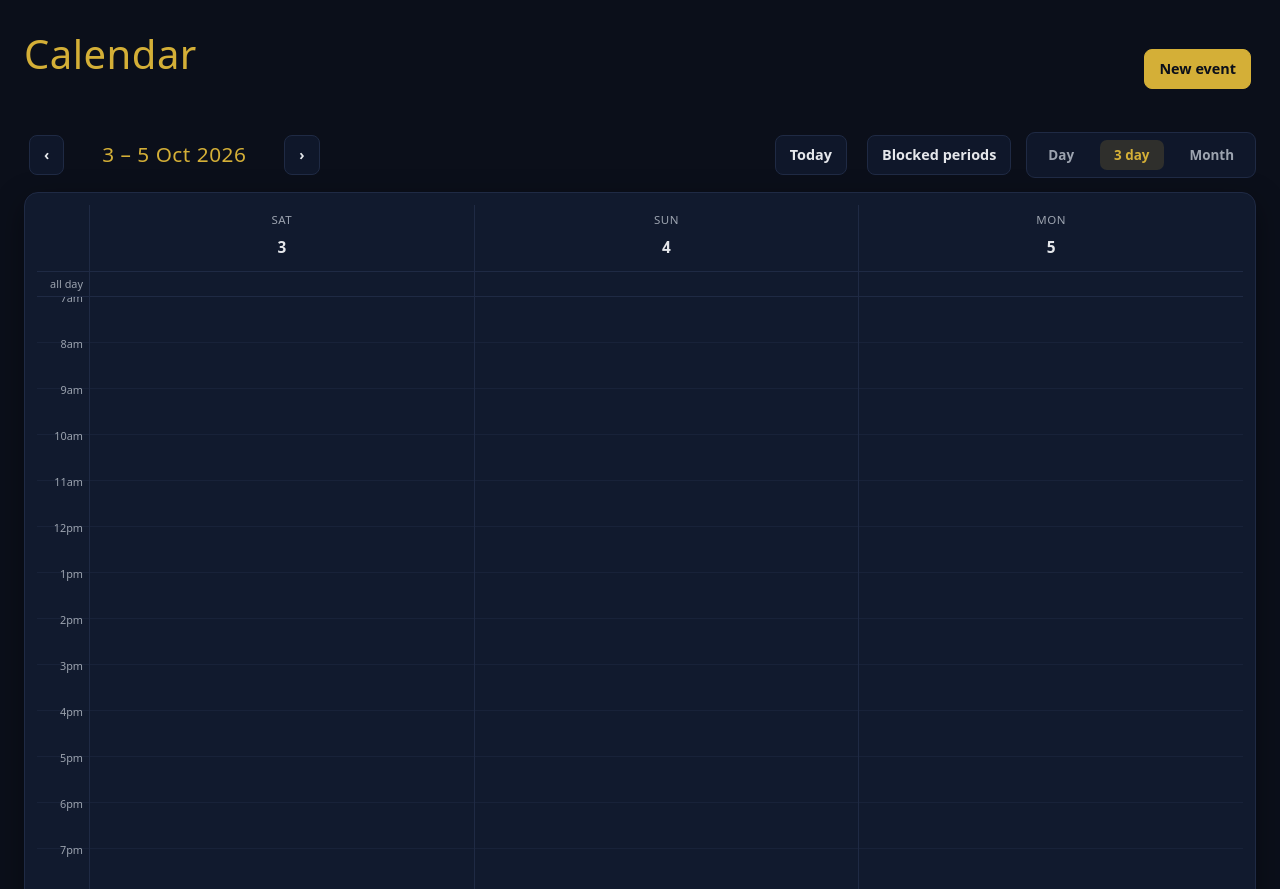
Test: on a phone › moves three days a press, and names it so
(page scrolled)
Click the button named "Next 3 days": click(302, 155) 284,135 -> 320,175
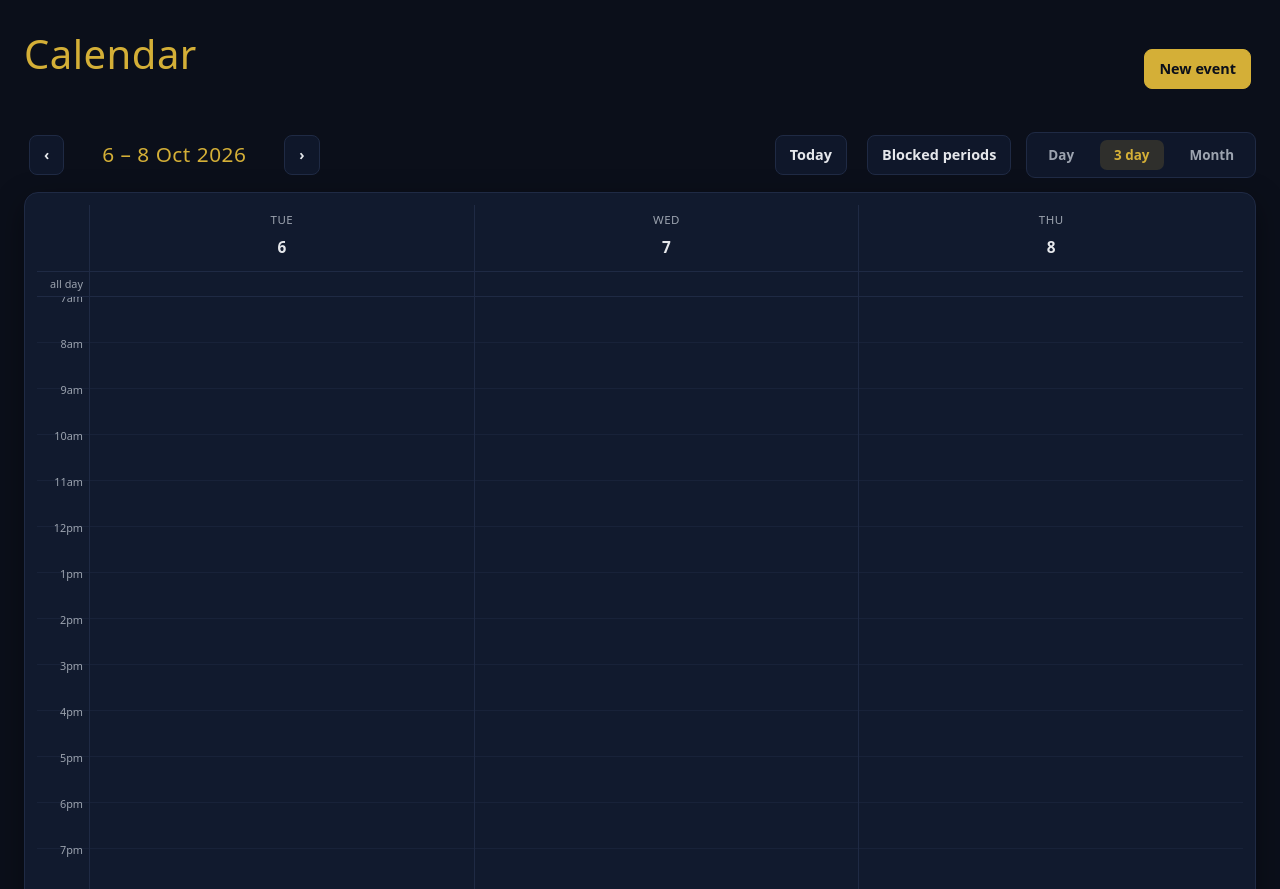
expect the heading "6 – 8 Oct 2026" is shown: met, box 102,140 -> 246,168
Click the button named "Previous 3 days": click(47, 155) 29,135 -> 64,175
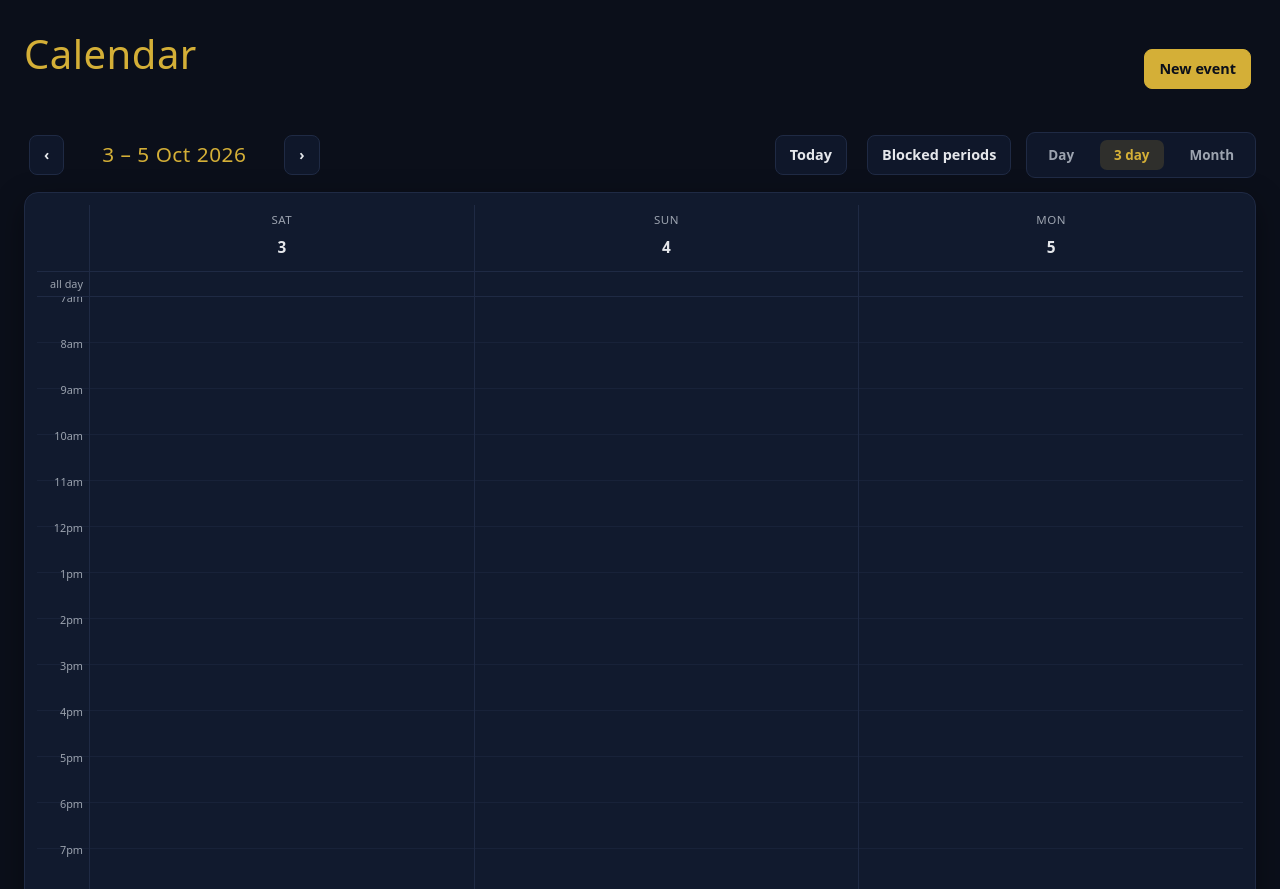
Click the button named "Previous 3 days": click(47, 155) 29,135 -> 64,175
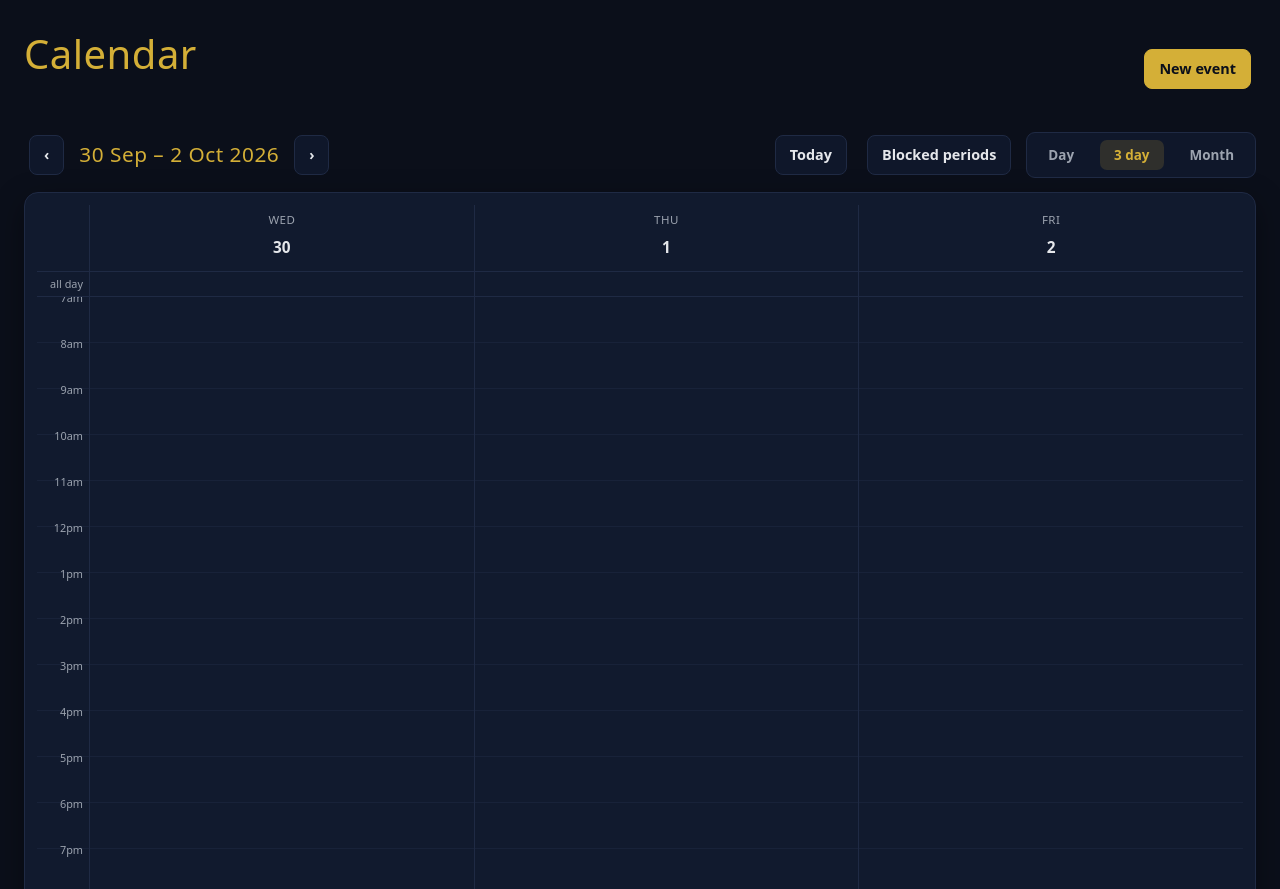
expect the heading "30 Sep – 2 Oct 2026" is shown: met, box 79,139 -> 279,170
